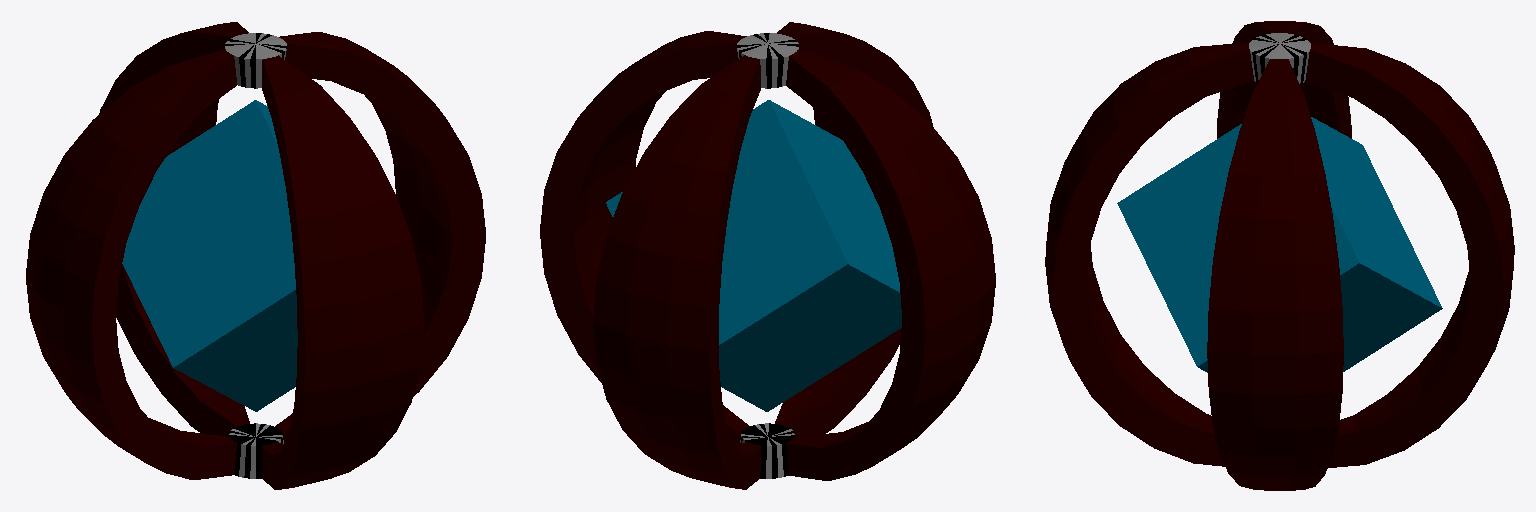
File: mystiblocks.obj
3 renders of one model, left to right at view 1: azimuth 30°, elevation 25°; view 2: azimuth 150°, elevation 25°; view 3: azimuth 270°, elevation 25°, orthographic.
Parts seen in each view (by area): view 1: Sphere_Sphere.001, Cube_Cube.001; view 2: Sphere_Sphere.001, Cube_Cube.001; view 3: Sphere_Sphere.001, Cube_Cube.001.
Boxes of the visible parts, x1=… form: Sphere_Sphere.001: x1=26, y1=22, x2=485, y2=489; Cube_Cube.001: x1=122, y1=100, x2=297, y2=411; Sphere_Sphere.001: x1=540, y1=22, x2=995, y2=489; Cube_Cube.001: x1=606, y1=100, x2=901, y2=411; Sphere_Sphere.001: x1=1045, y1=21, x2=1514, y2=490; Cube_Cube.001: x1=1117, y1=117, x2=1442, y2=372.
Size of the model in its own units: 9.97 by 9.96 by 9.97.